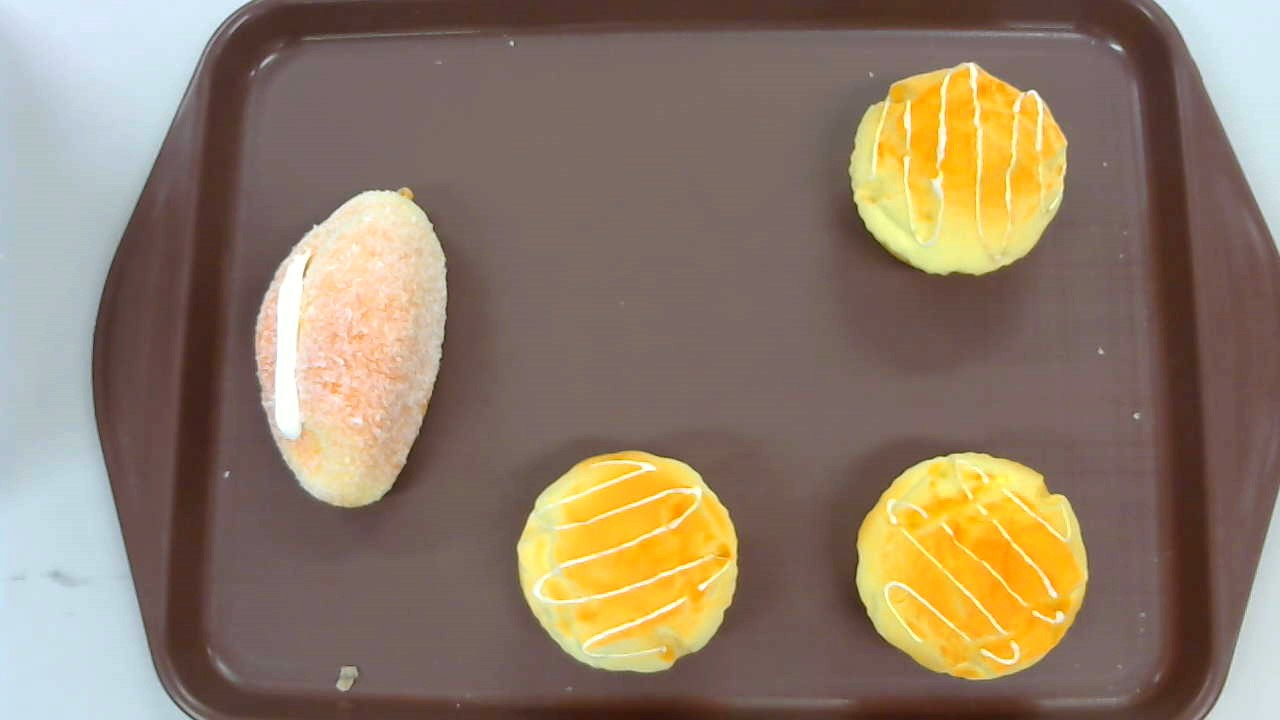coconut: (255, 186, 447, 510)
cupcake: (855, 451, 1087, 680), (517, 450, 738, 673), (849, 62, 1068, 279)
